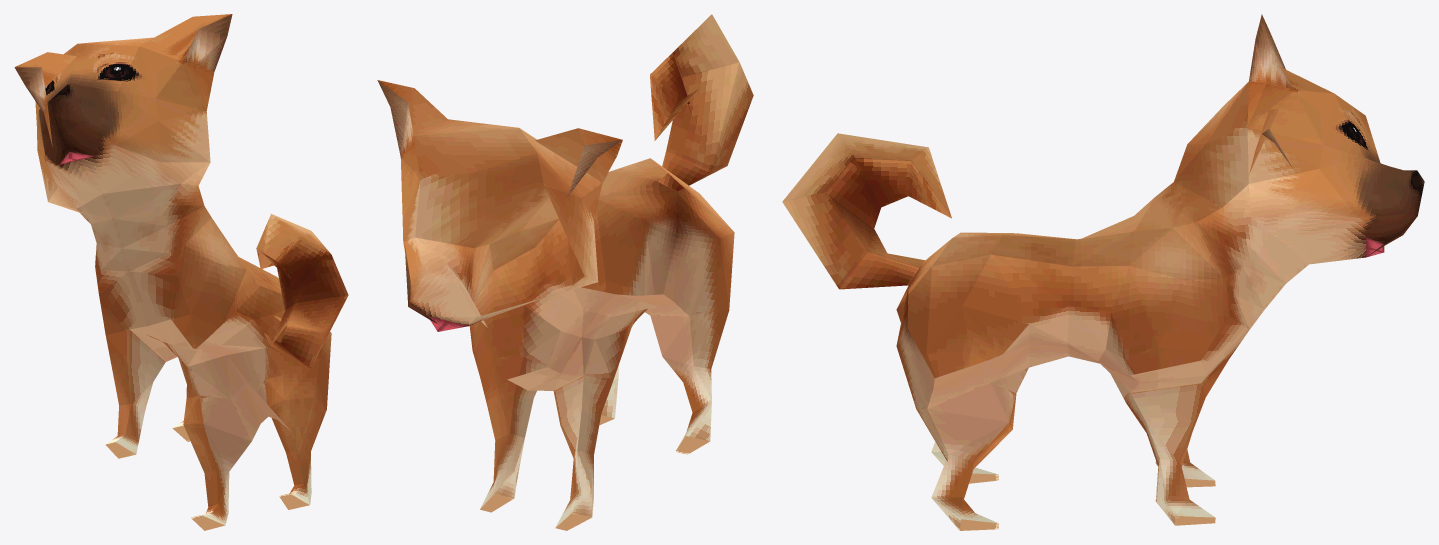
The model's file is ps2_save-icons_tenseihakkenshifuumaroku.glb.
The picture shows the model from 3 angles, left to right: view 1: azimuth 30°, elevation 25°; view 2: azimuth 150°, elevation 25°; view 3: azimuth 270°, elevation 25°; orthographic projection. The views are drawn at different scales.
Parts seen in each view (by area): view 1: hakken.ico; view 2: hakken.ico; view 3: hakken.ico.
Boxes of the visible parts, box(x1,y1,x2,y2) form: hakken.ico: box(14, 14, 348, 530); hakken.ico: box(377, 14, 753, 530); hakken.ico: box(782, 14, 1424, 530).
Bounding box in the file's own units: 2.1 × 3.52 × 4.74.
Materials: 1 (1 with a texture image).
